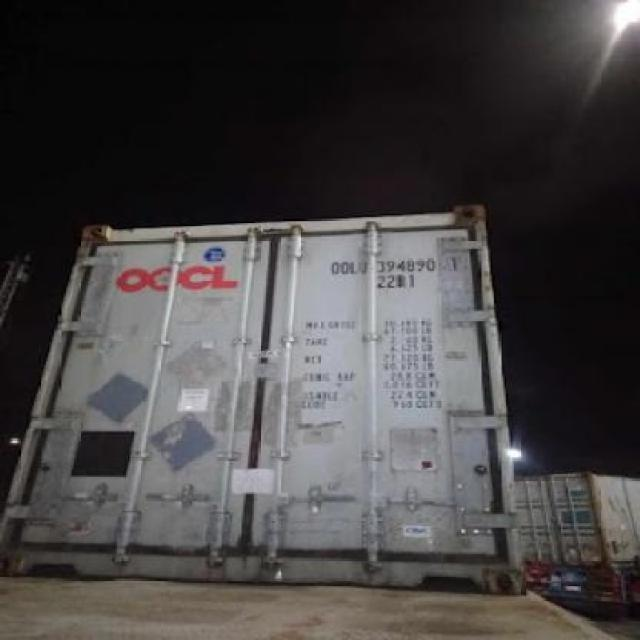ISO: (374, 274, 414, 292)
container_number: (329, 256, 471, 274)
